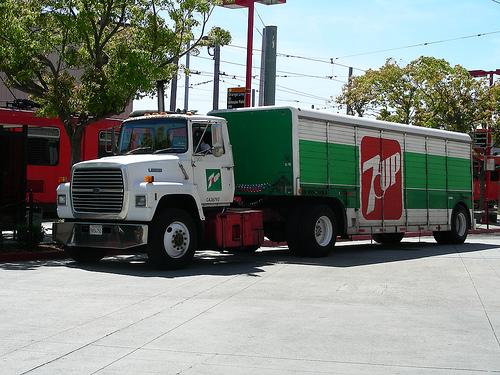truck: (51, 104, 475, 272)
